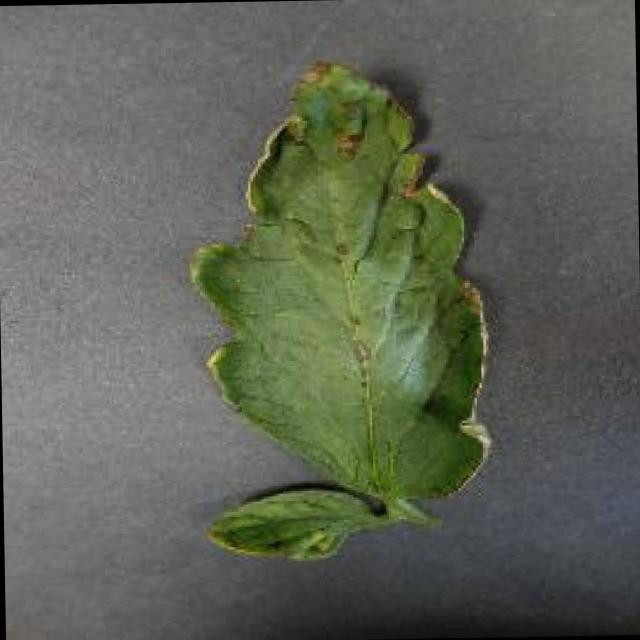Tomato bacterial spot leaf: (179, 53, 494, 570)
